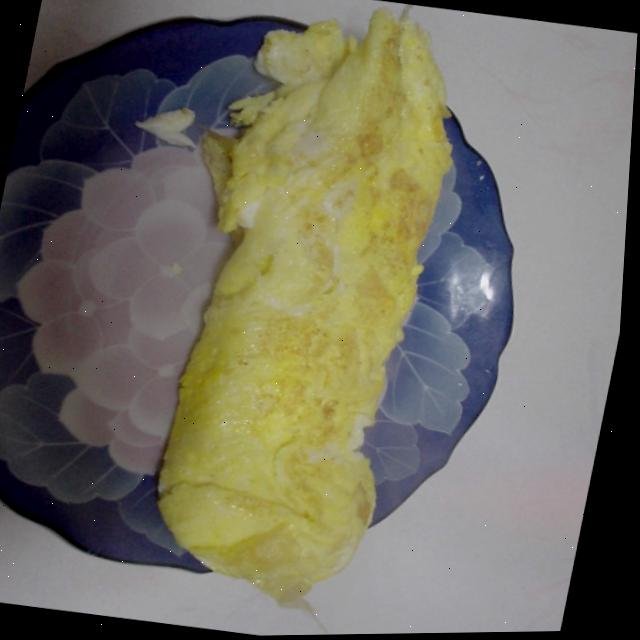鸡蛋料理: (58, 0, 475, 436)
